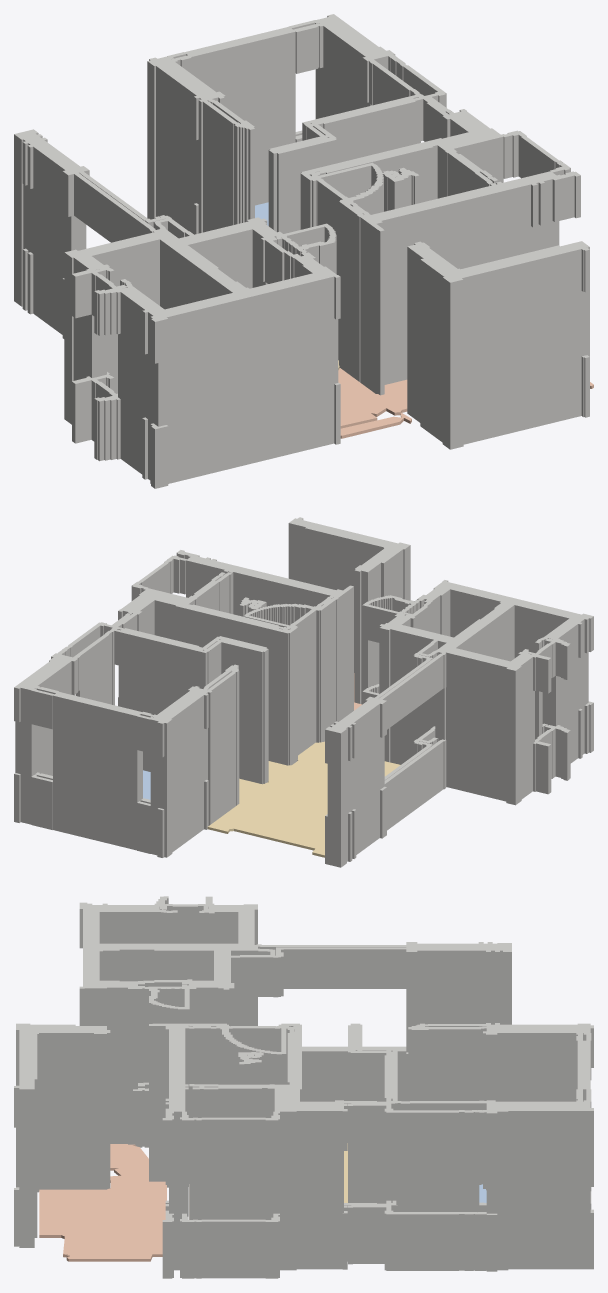
3 views of the same model, one above another, from view 1: azimuth 30°, elevation 25°; view 2: azimuth 150°, elevation 25°; view 3: azimuth 270°, elevation 25° (orthographic). The views are drawn at different scales.
Parts seen in each view (by area): view 1: walls, room:kitchen:4; view 2: walls, room:living:2; view 3: walls, room:kitchen:4.
Part boxes in pixels (<box>): walls: <box>14,14,589,488</box>; room:kitchen:4: <box>338,368,593,438</box>; walls: <box>14,517,593,867</box>; room:living:2: <box>207,741,400,857</box>; walls: <box>14,896,593,1278</box>; room:kitchen:4: <box>39,1144,166,1261</box>.
Bounding box in the file's own units: 8.48 × 2.8 × 9.28.
